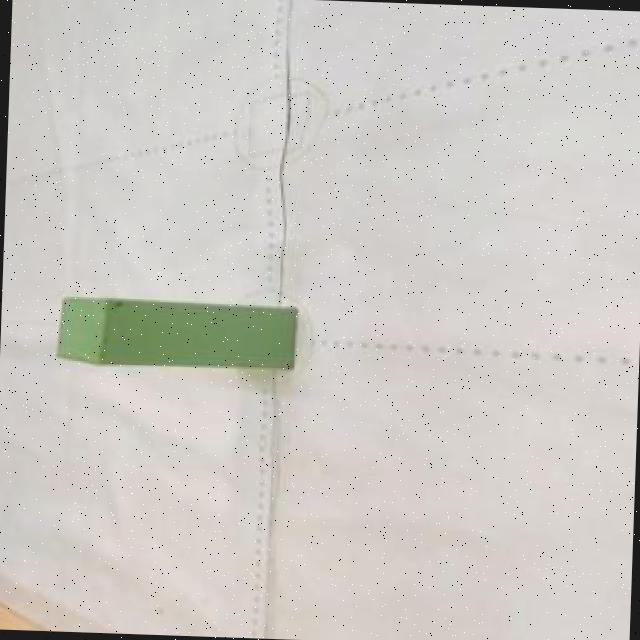greenbox: (54, 295, 295, 371)
